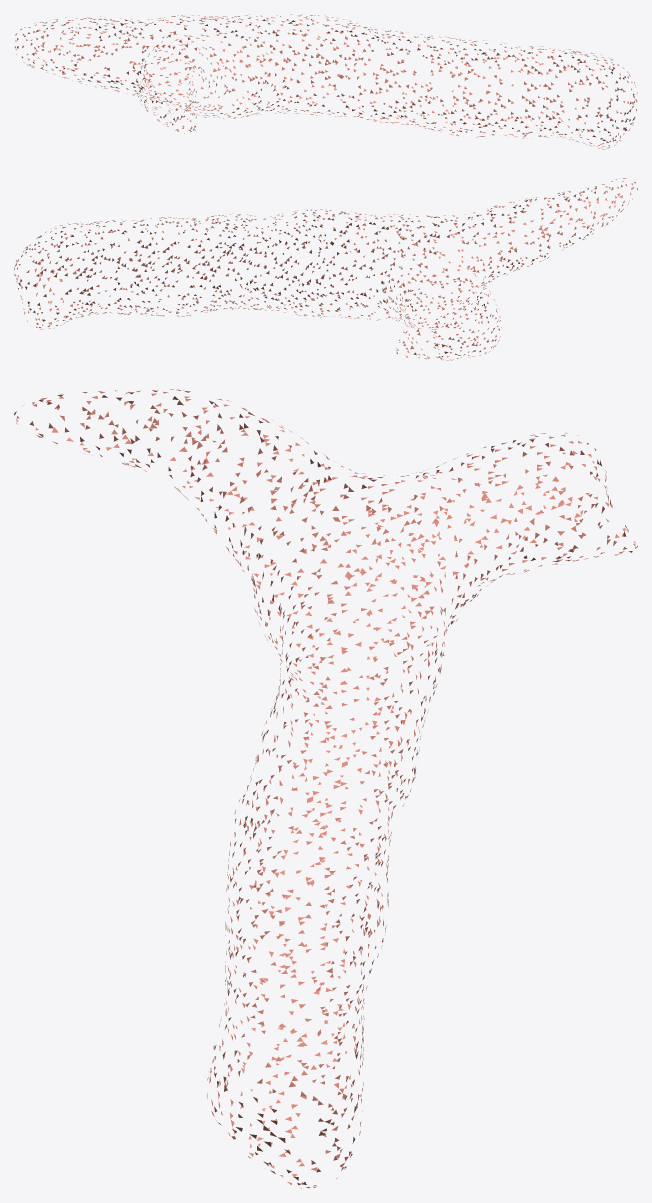
Rendered from morph_002.glb.
3 renders of one model, top to bottom at view 1: azimuth 30°, elevation 25°; view 2: azimuth 150°, elevation 25°; view 3: azimuth 270°, elevation 25°, orthographic. The views are drawn at different scales.
Size of the model in its own units: 116 by 45.05 by 66.5.
